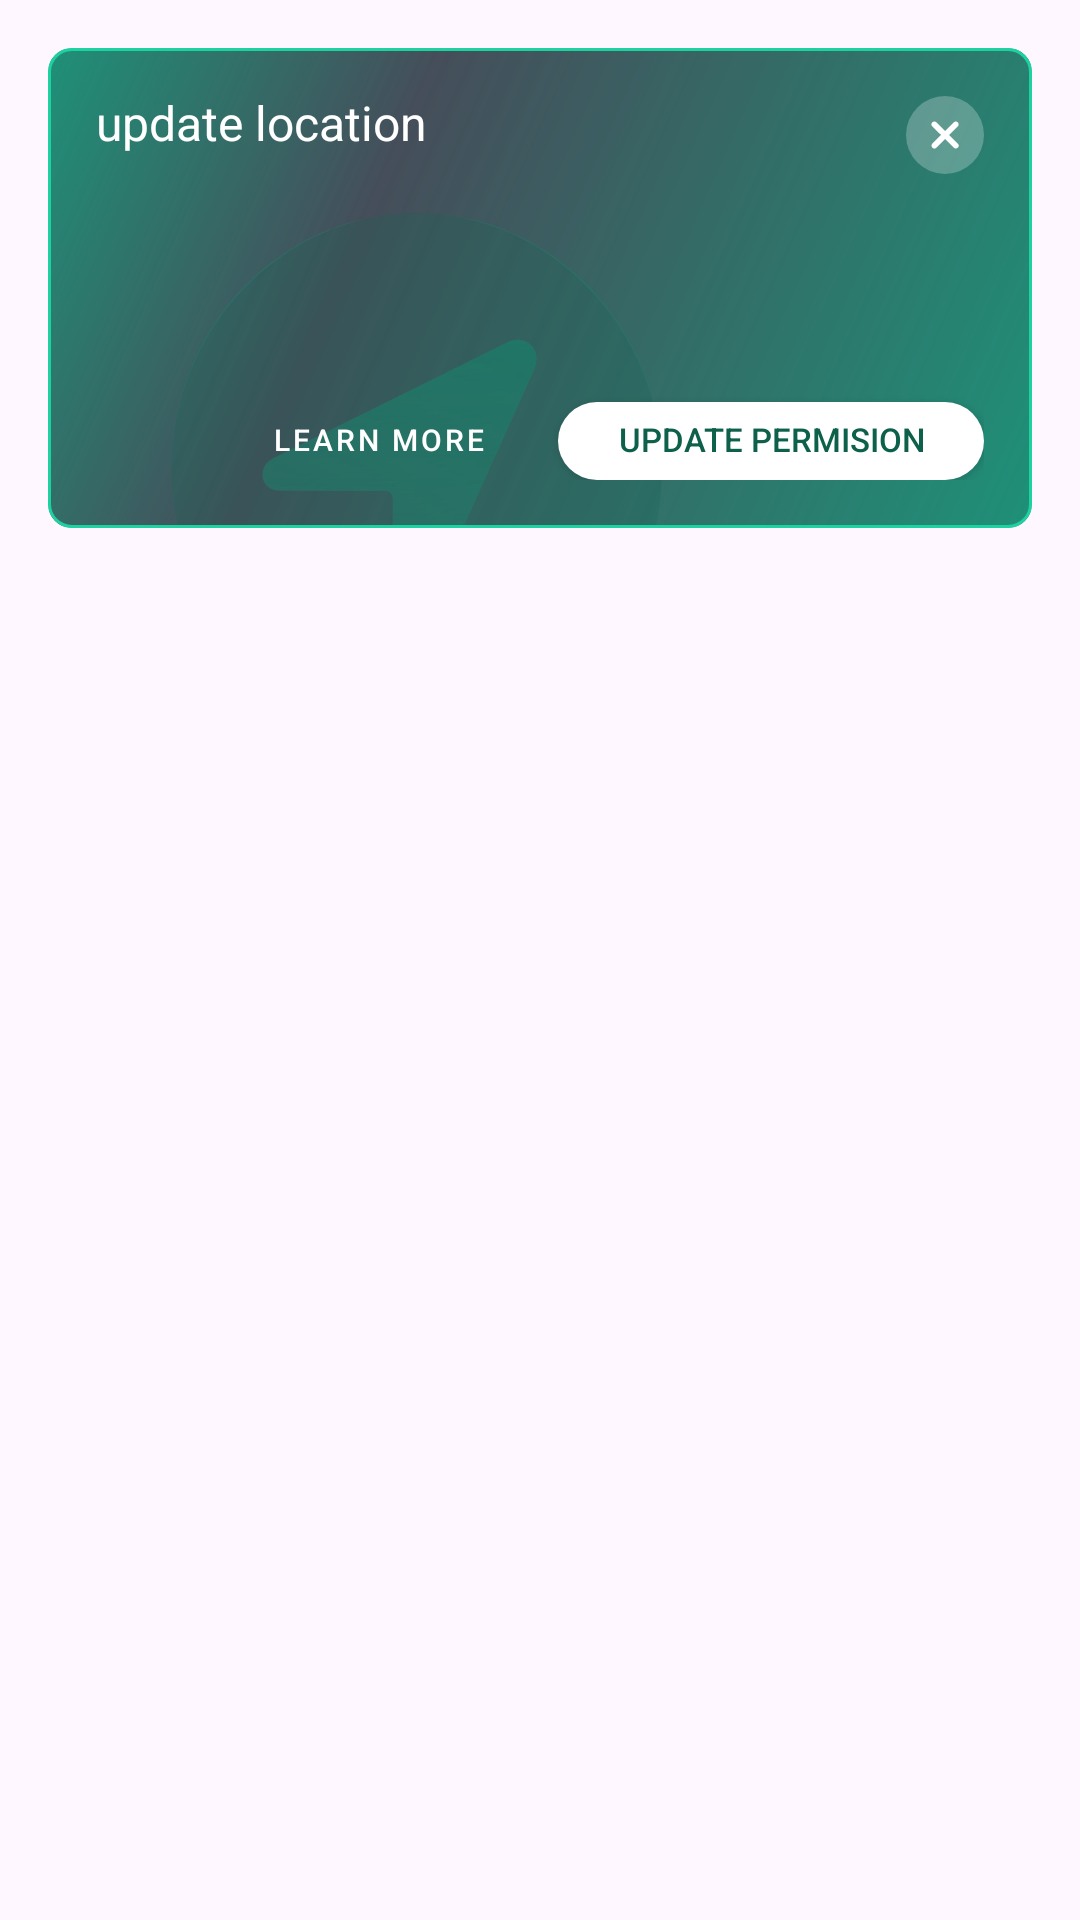

Point at icon controls on the screen. Image size 1080×1920, points as [x,y].
dismiss circle: [945,135]
